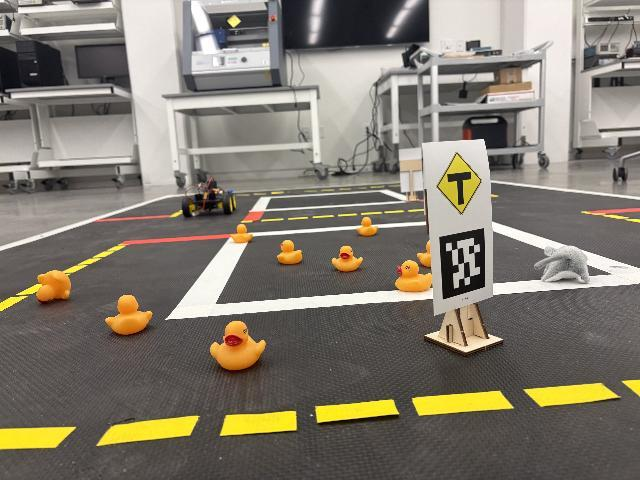Duck: (201, 319, 276, 375), (105, 294, 153, 336), (395, 259, 432, 292), (35, 270, 71, 303), (331, 246, 363, 272), (276, 239, 303, 265), (230, 224, 253, 244), (357, 217, 378, 236), (418, 240, 431, 268)
